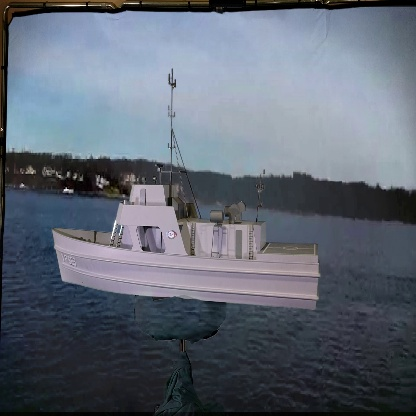YP689: (51, 54, 324, 313)
